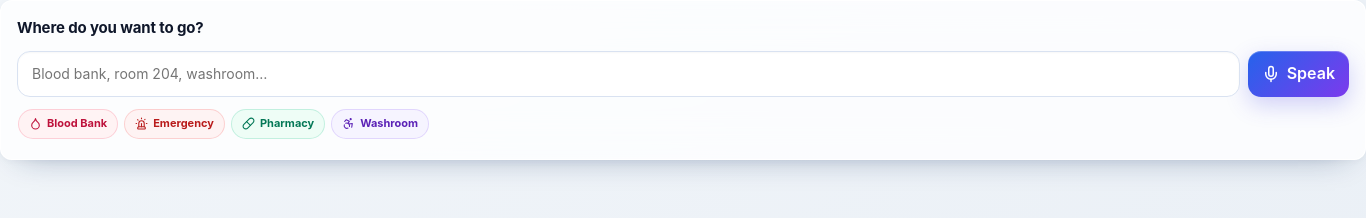
Test: destination search panel › shows an empty state for a query with no match
Type "xqzvw" into the dropdown at [628, 74], box [17,51,1240,97]
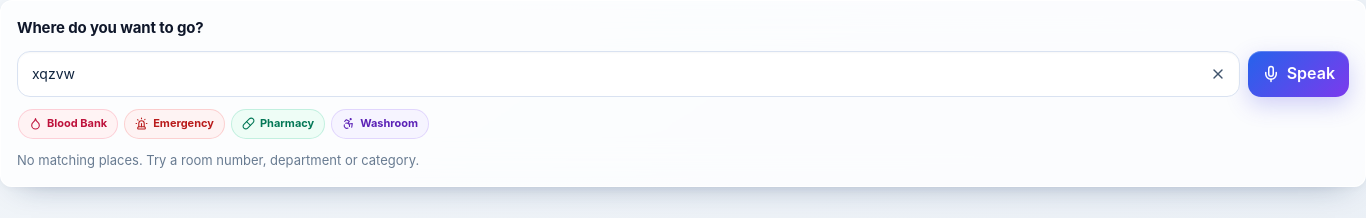
expect the text "No matching places. Try a room number, department or category." is shown: met, box [17,152,419,168]
